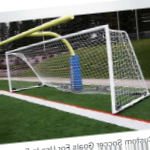goals: (5, 24, 149, 115)
